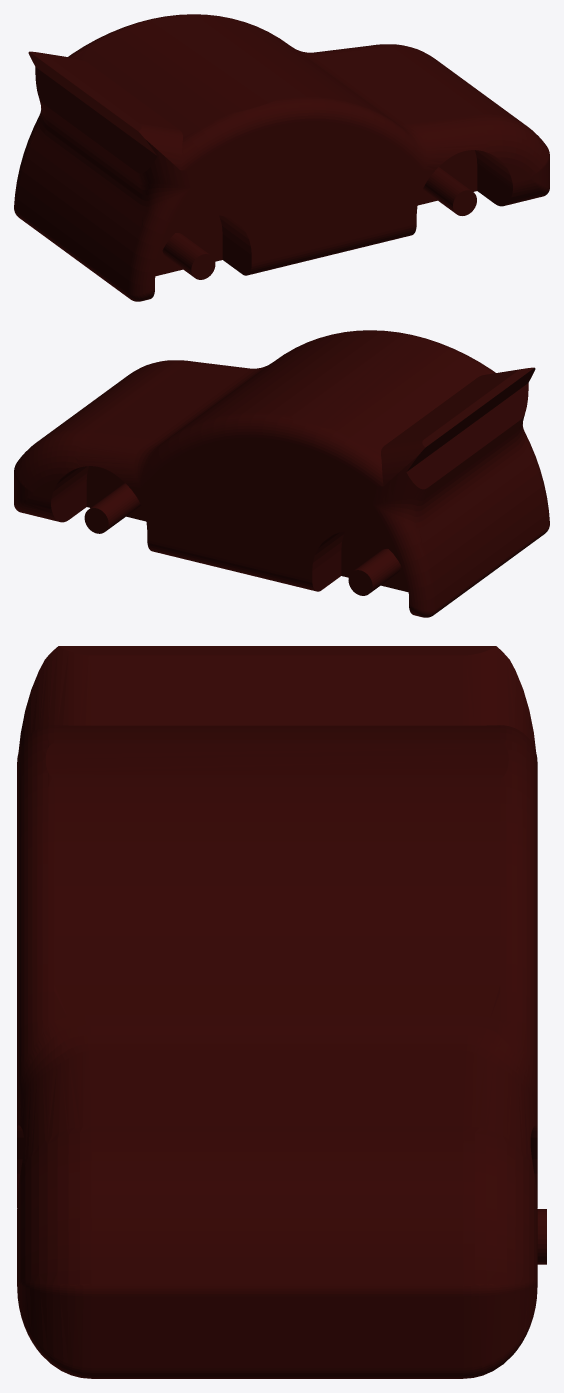
Rendered from chassis.glb.
The picture shows the model from 3 angles, top to bottom: view 1: azimuth 30°, elevation 25°; view 2: azimuth 150°, elevation 25°; view 3: azimuth 270°, elevation 25°; orthographic projection. The views are drawn at different scales.
Visible parts, largest first — view 1: chassis; view 2: chassis; view 3: chassis.
Boxes of the visible parts, x1,y1,x2,y2 form: chassis: (14, 14, 549, 301); chassis: (14, 330, 549, 617); chassis: (17, 646, 546, 1378).
Size of the model in its own units: 0.5297 by 0.1983 by 0.285.
